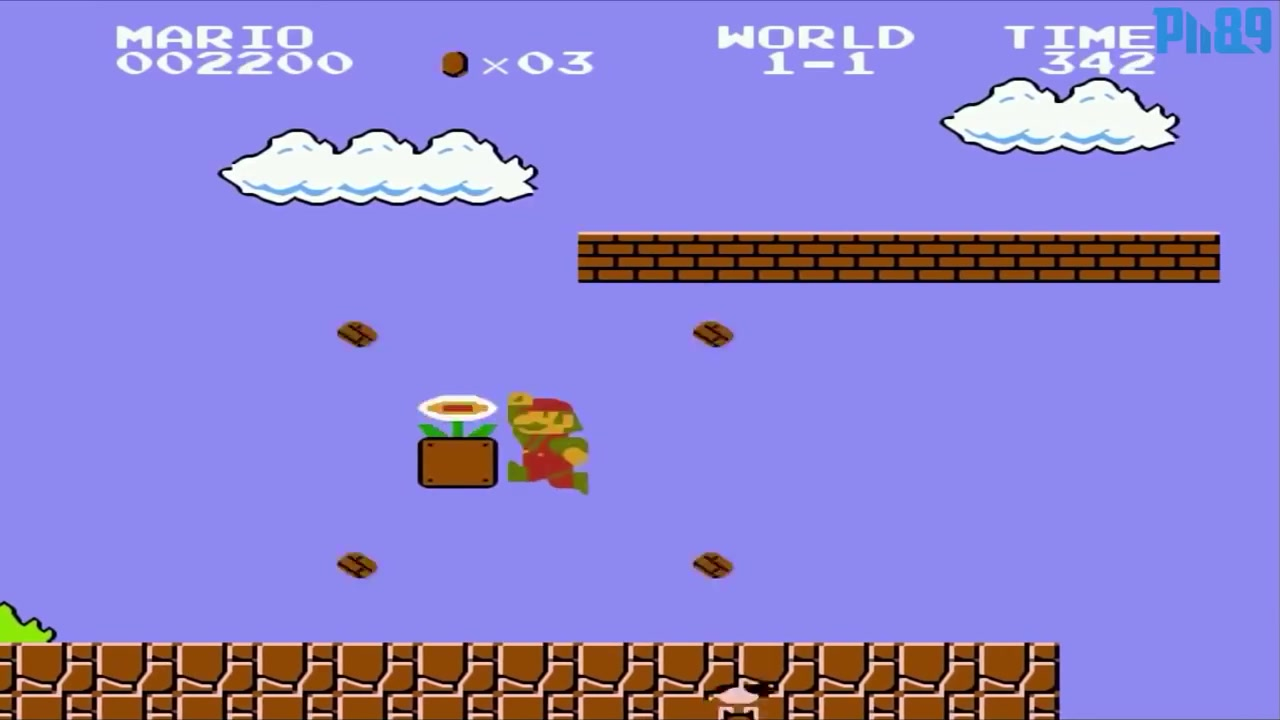mario: (498, 384, 591, 495)
